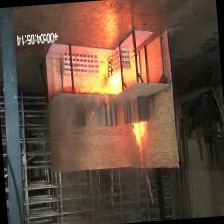fire: (74, 59, 137, 108), (117, 111, 161, 169)
